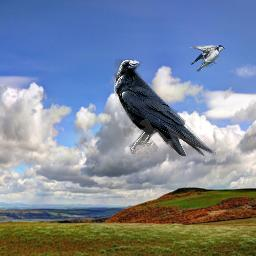Crow: (114, 59, 216, 156)
Swallow: (188, 44, 225, 72)
